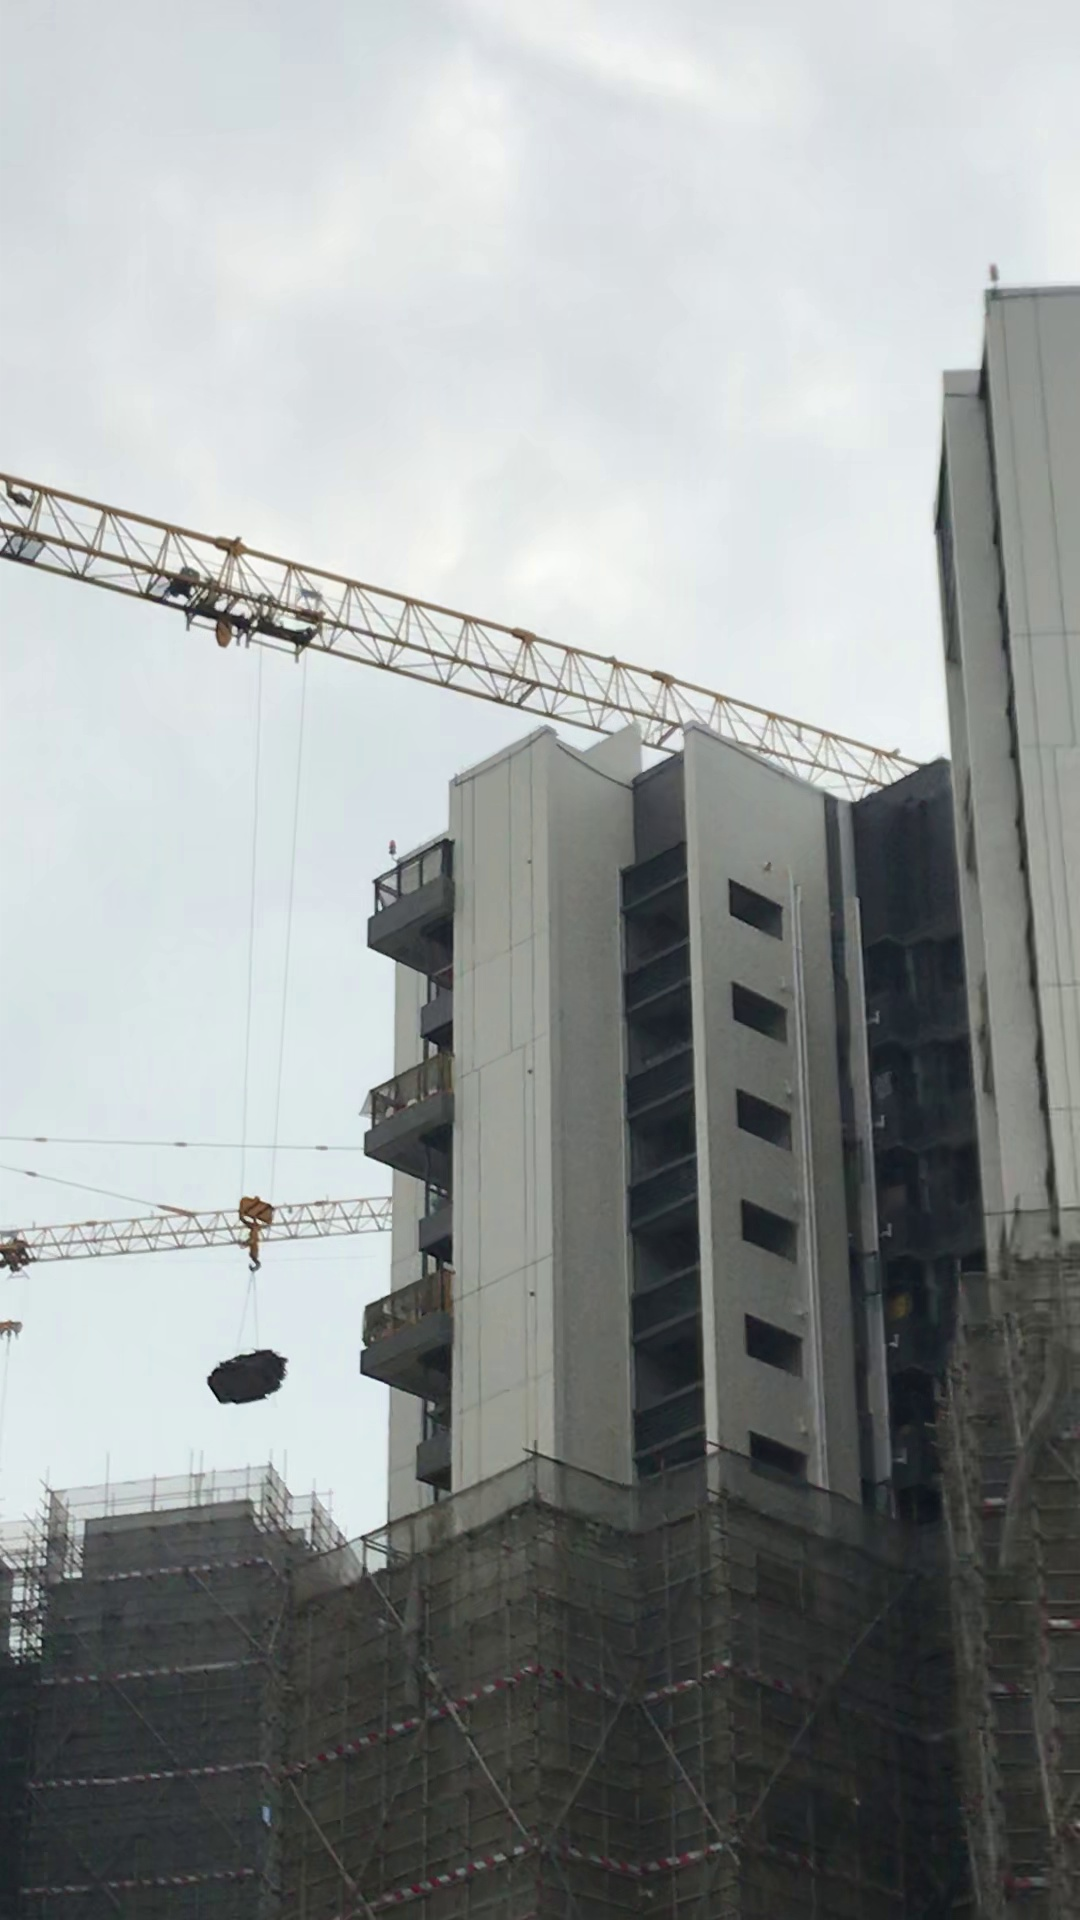board: (204, 1346, 289, 1408)
hook: (236, 1192, 278, 1275), (1, 1317, 24, 1342)
